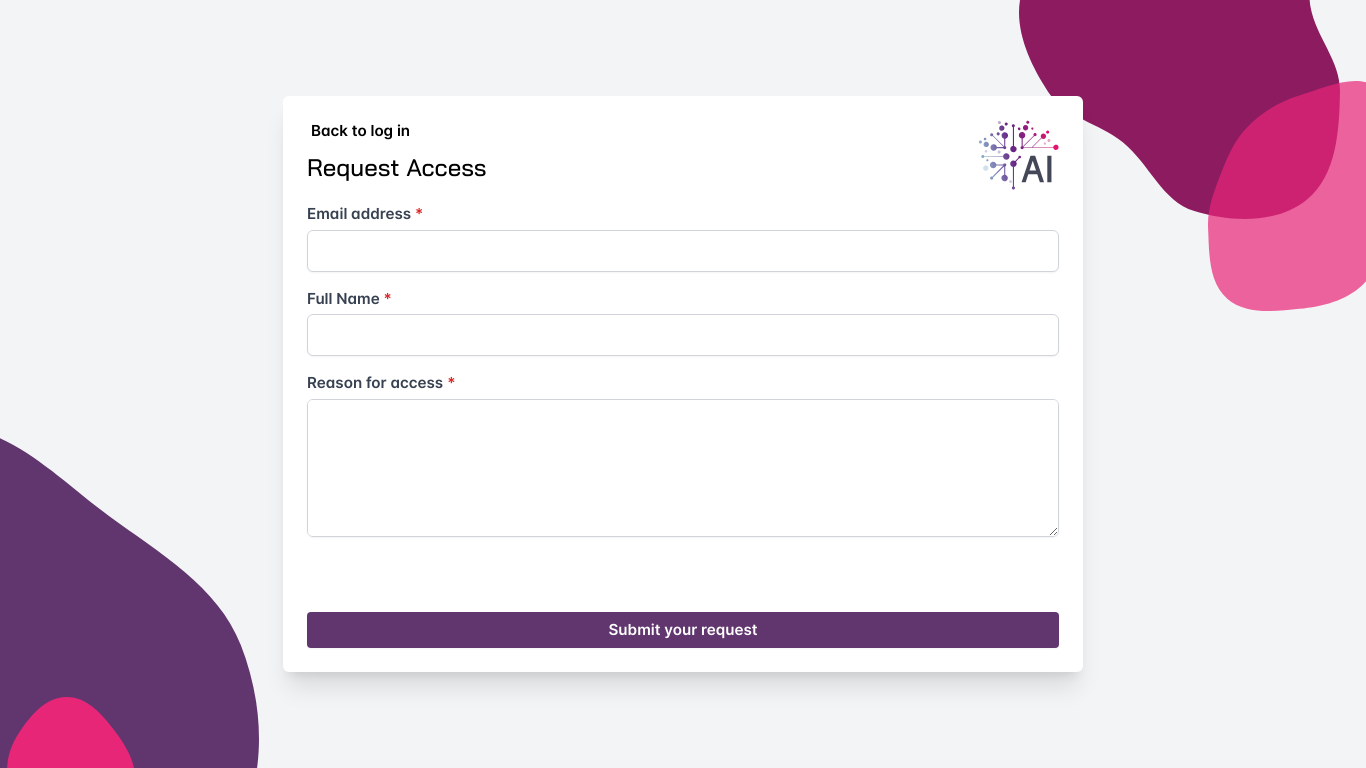
Test: Access request page › should be able to submit a valid form
This screenshot has width=1366, height=768.
Type "valid@email.com" into the field with test id "email-input".
click(683, 251); type("valid@email.com")  # box [307,230,1059,272]
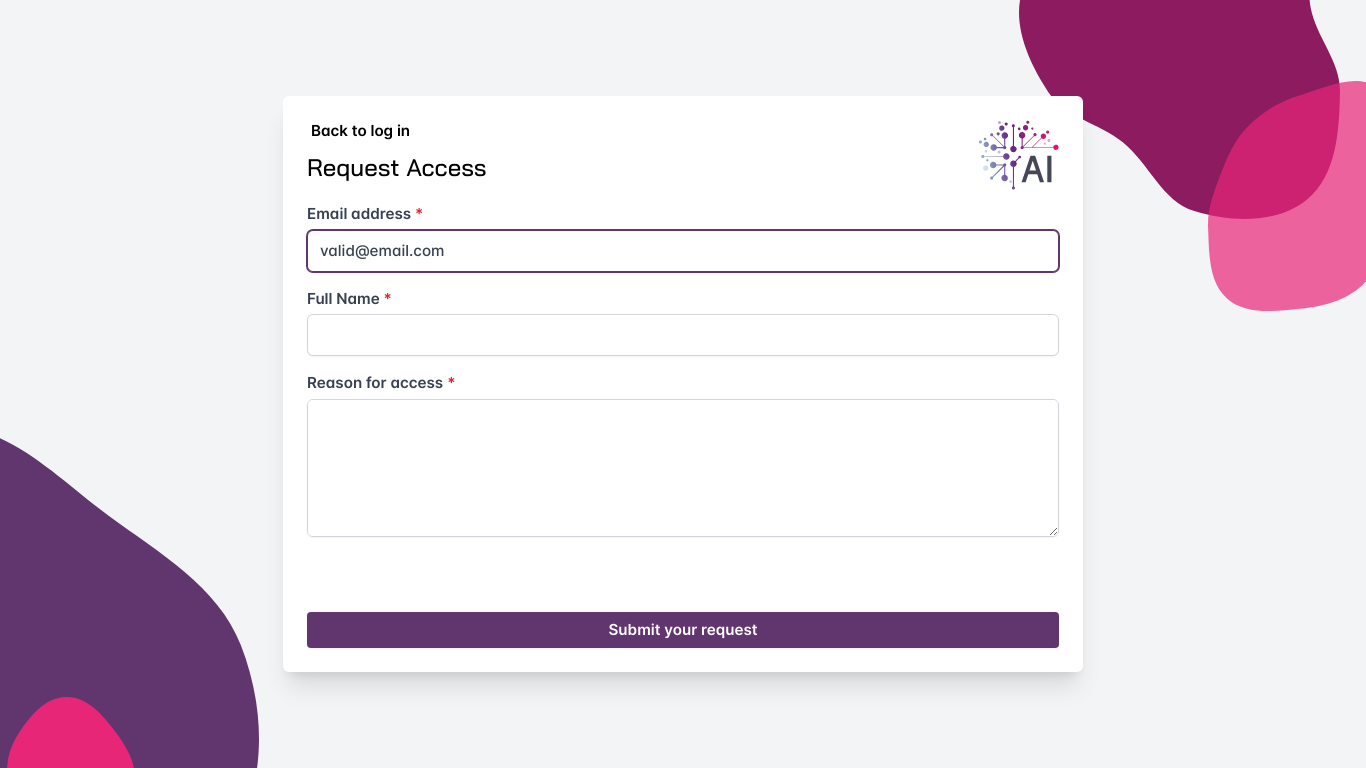
Type "Joe Bloggs" into the field with test id "full-name-input".
click(683, 335); type("Joe Bloggs")  # box [307,314,1059,356]
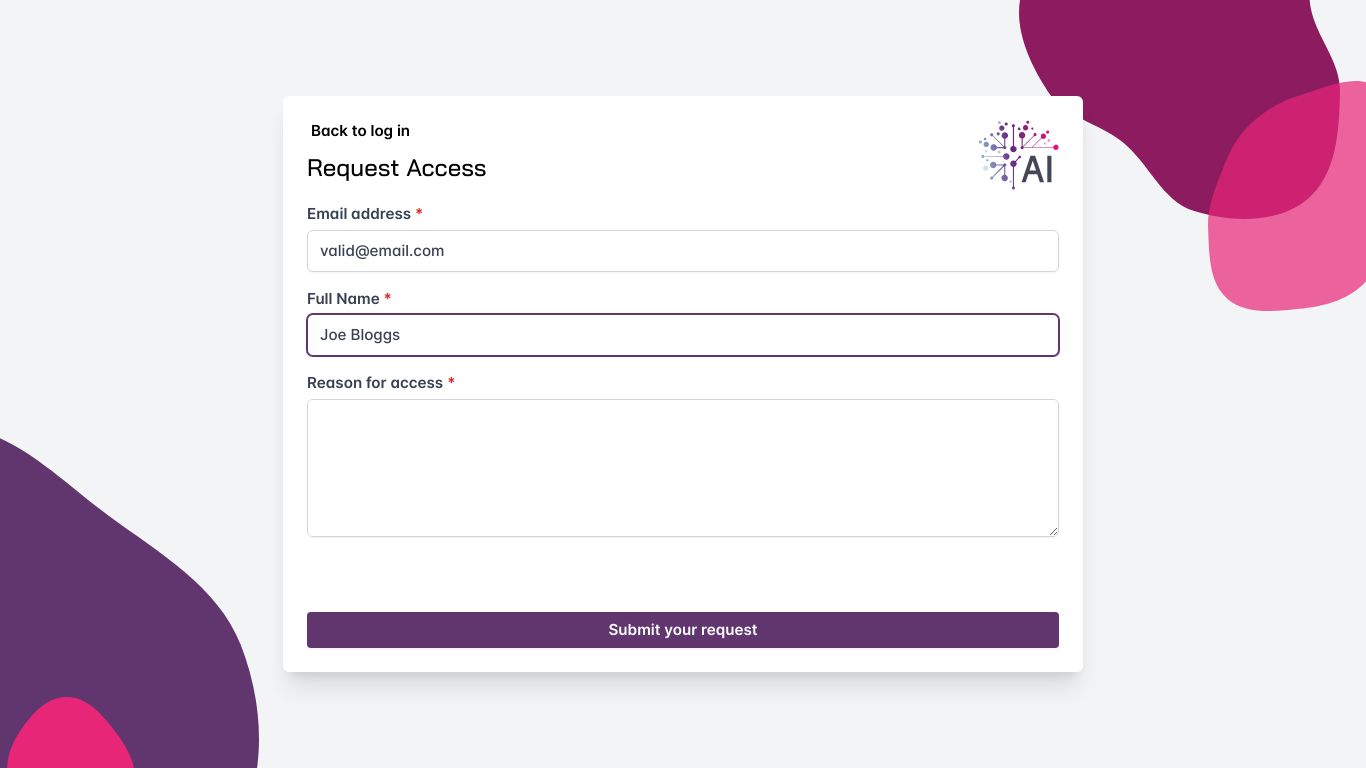
Type "This is a reason for access" into the text box with test id "reason-for-access-textarea".
click(683, 468); type("This is a reason for access")  # box [308,400,1058,536]
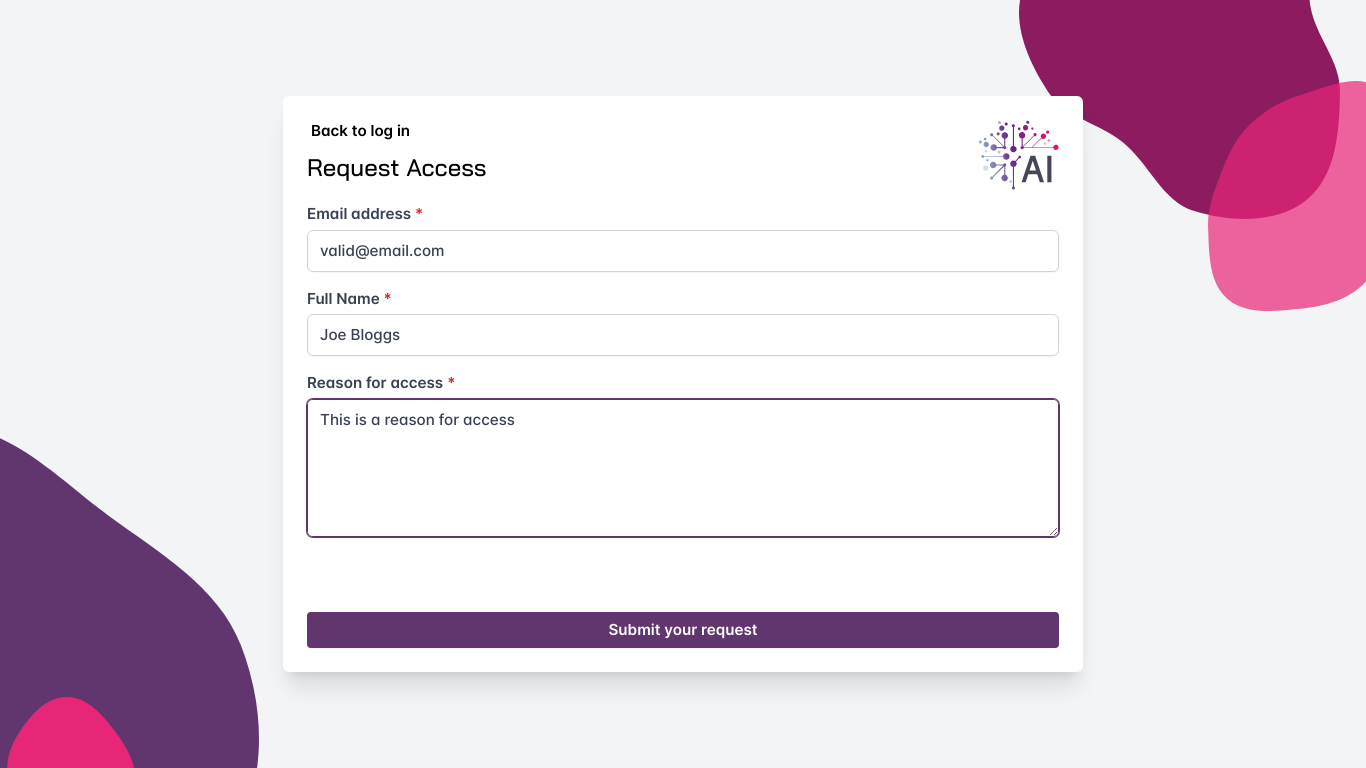
Click the button with test id "submit-access-request-btn".
click(683, 630)  # box [307,612,1059,648]
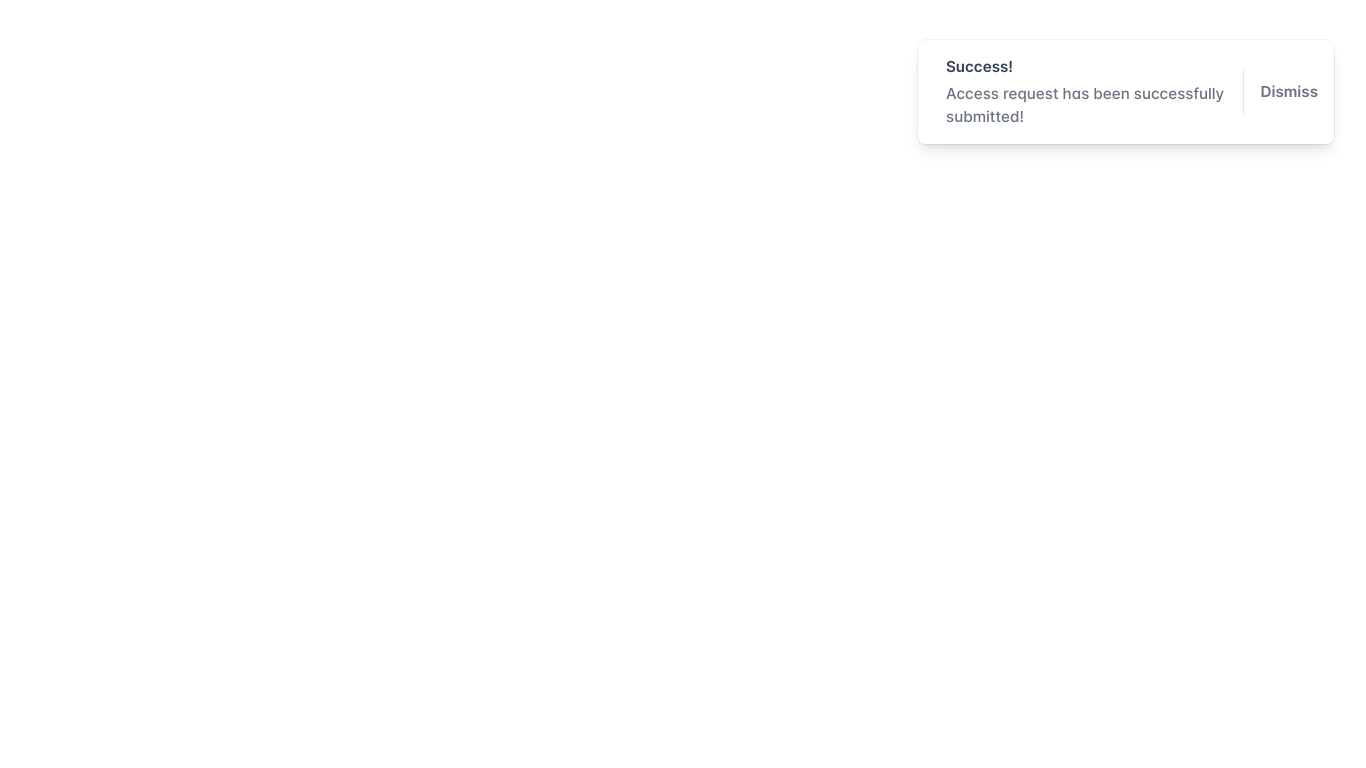
Expected: the text "Success!" is shown, [946,57,1013,76]
Expected: the text "Access request has been successfully submitted!" is shown, [946,83,1227,128]
